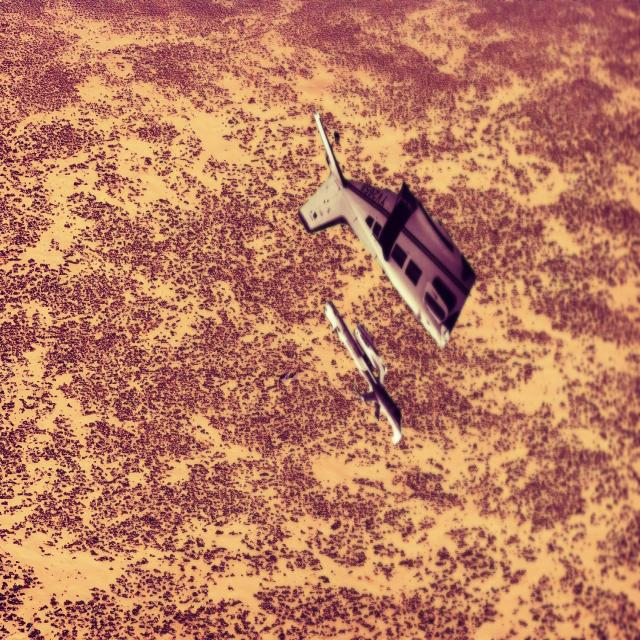airplane: (298, 110, 476, 350), (321, 292, 402, 442)
